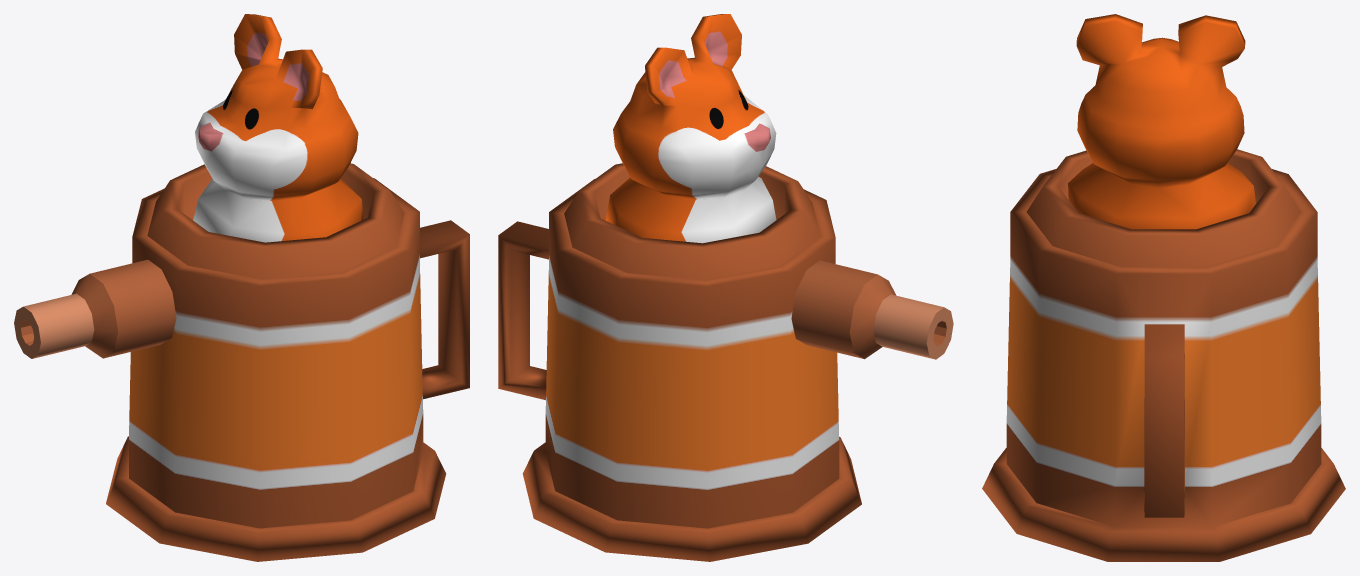
Rendered from OrangeHamTurret.obj.
3 renders of one model, left to right at view 1: azimuth 30°, elevation 25°; view 2: azimuth 150°, elevation 25°; view 3: azimuth 270°, elevation 25°, orthographic. The views are drawn at different scales.
Visible parts, largest first — view 1: polySurface2, polySurface3, polySurface1; view 2: polySurface2, polySurface3, polySurface1; view 3: polySurface2, polySurface3.
Part boxes in pixels (x1,y1,x2,y2): polySurface2: [106, 163, 469, 561]; polySurface3: [193, 14, 363, 242]; polySurface1: [14, 259, 176, 358]; polySurface2: [498, 163, 861, 561]; polySurface3: [605, 14, 776, 243]; polySurface1: [791, 260, 953, 359]; polySurface2: [982, 149, 1345, 561]; polySurface3: [1068, 14, 1255, 229].
Bounding box in the file's own units: 3.22 × 3.24 × 2.24.
